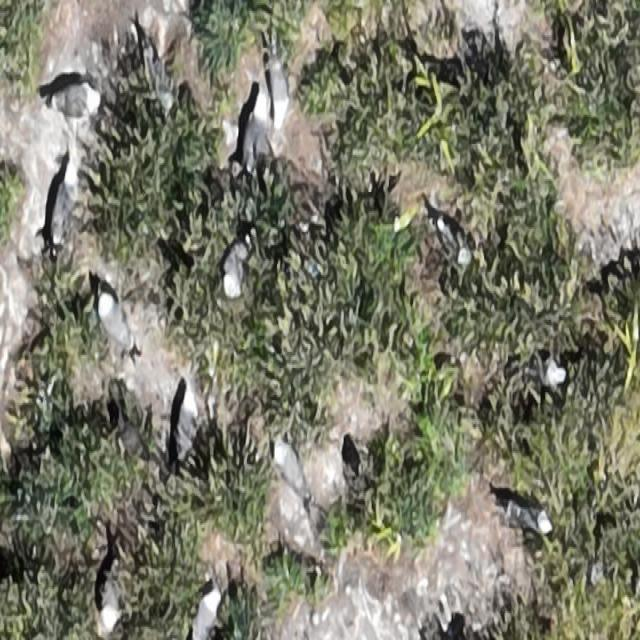umineko: (275, 437, 312, 513), (49, 160, 78, 243), (98, 294, 136, 354), (176, 382, 199, 470), (242, 91, 269, 164), (438, 217, 473, 267), (223, 237, 250, 298), (52, 83, 100, 117), (521, 356, 567, 390), (271, 55, 290, 135), (100, 556, 119, 632), (196, 590, 223, 635), (512, 508, 551, 533)
